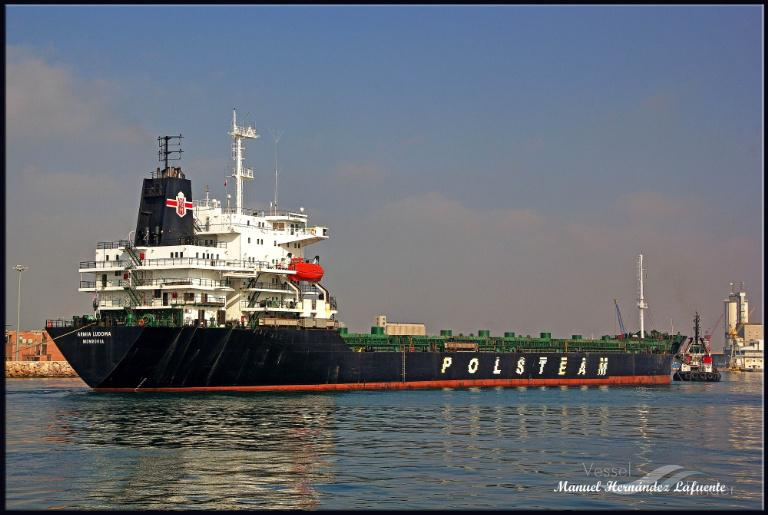OCR: (438, 356, 612, 379)
